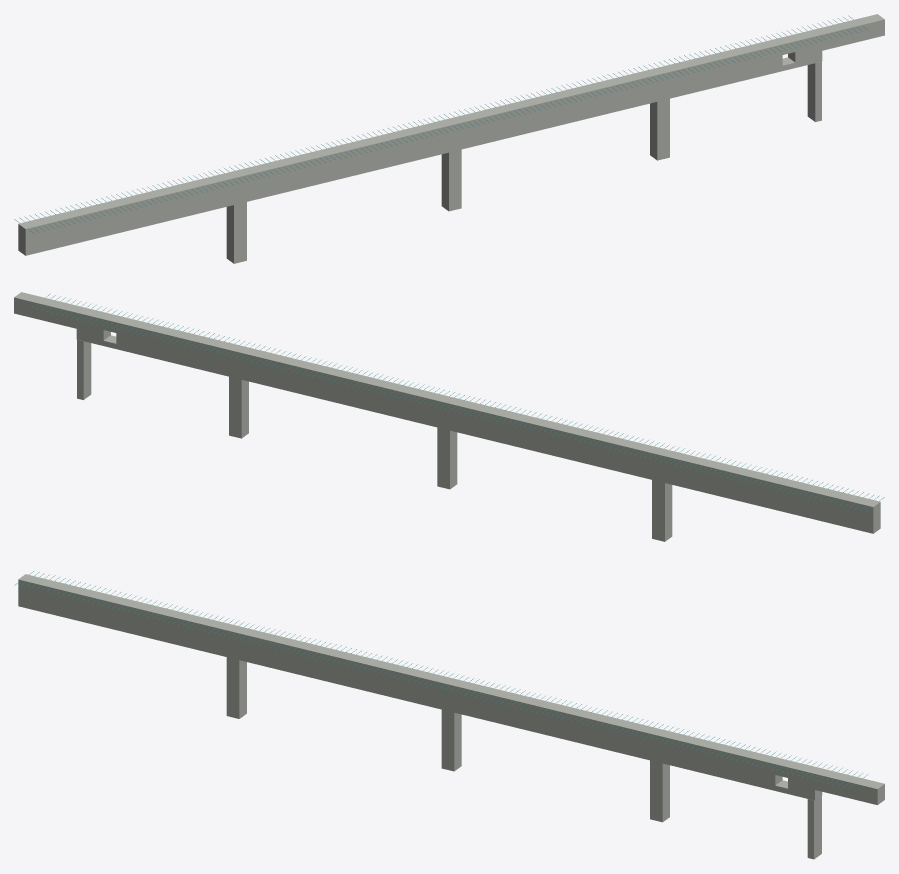
Rendered from unterzug-441-m10.glb.
3 views of the same model, one above another, from view 1: azimuth 30°, elevation 25°; view 2: azimuth 150°, elevation 25°; view 3: azimuth 330°, elevation 25° (orthographic).
Visible parts, largest first — view 1: Beton; view 2: Beton; view 3: Beton.
Part boxes in pixels (bbox=[...]): Beton: bbox=[18, 14, 884, 263]; Beton: bbox=[14, 292, 880, 541]; Beton: bbox=[18, 574, 884, 859].
Size of the model in its own units: 3.36 by 0.32 by 0.14.
